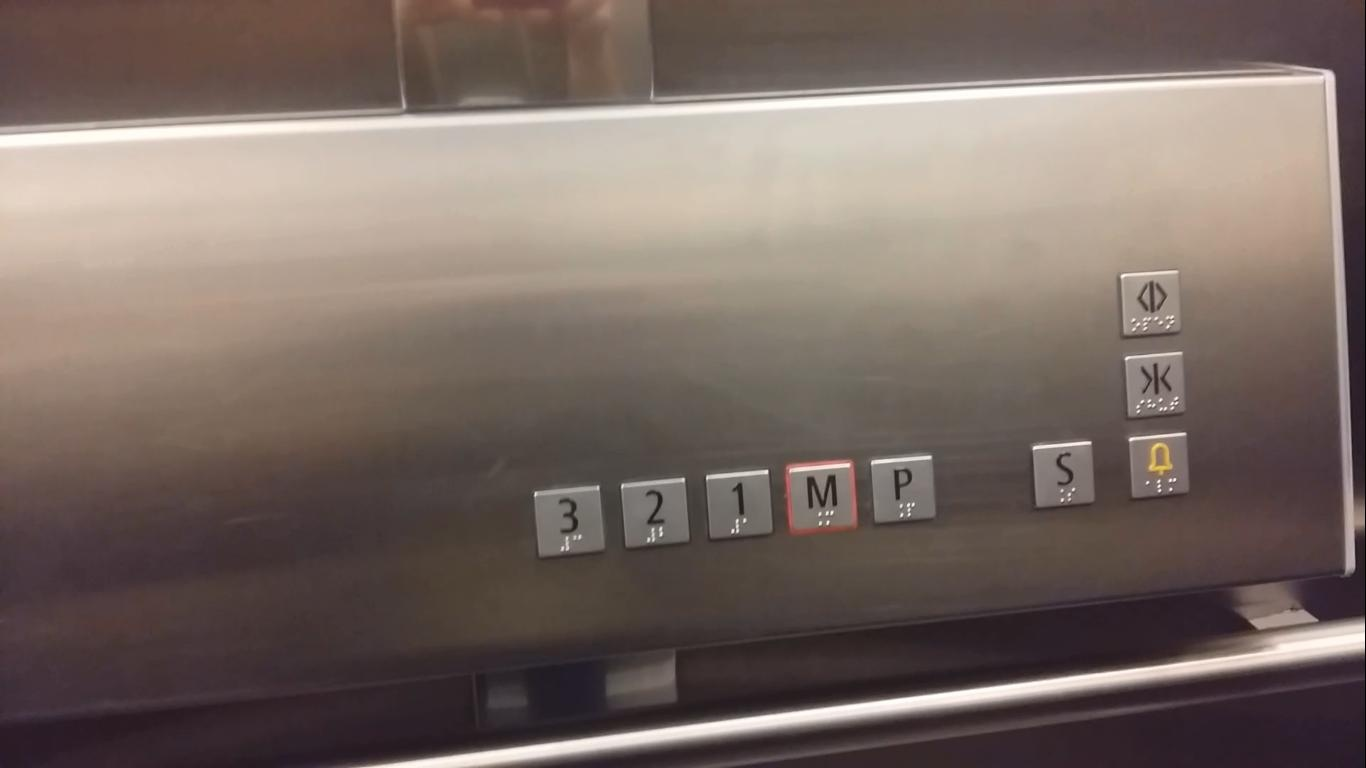1: (701, 468, 776, 542)
2: (617, 474, 692, 551)
3: (531, 481, 609, 557)
M: (782, 459, 861, 537)
P: (869, 452, 939, 527)
S: (1028, 439, 1100, 508)
alarm: (1127, 430, 1191, 499)
close: (1122, 350, 1187, 422)
open: (1117, 270, 1183, 340)
